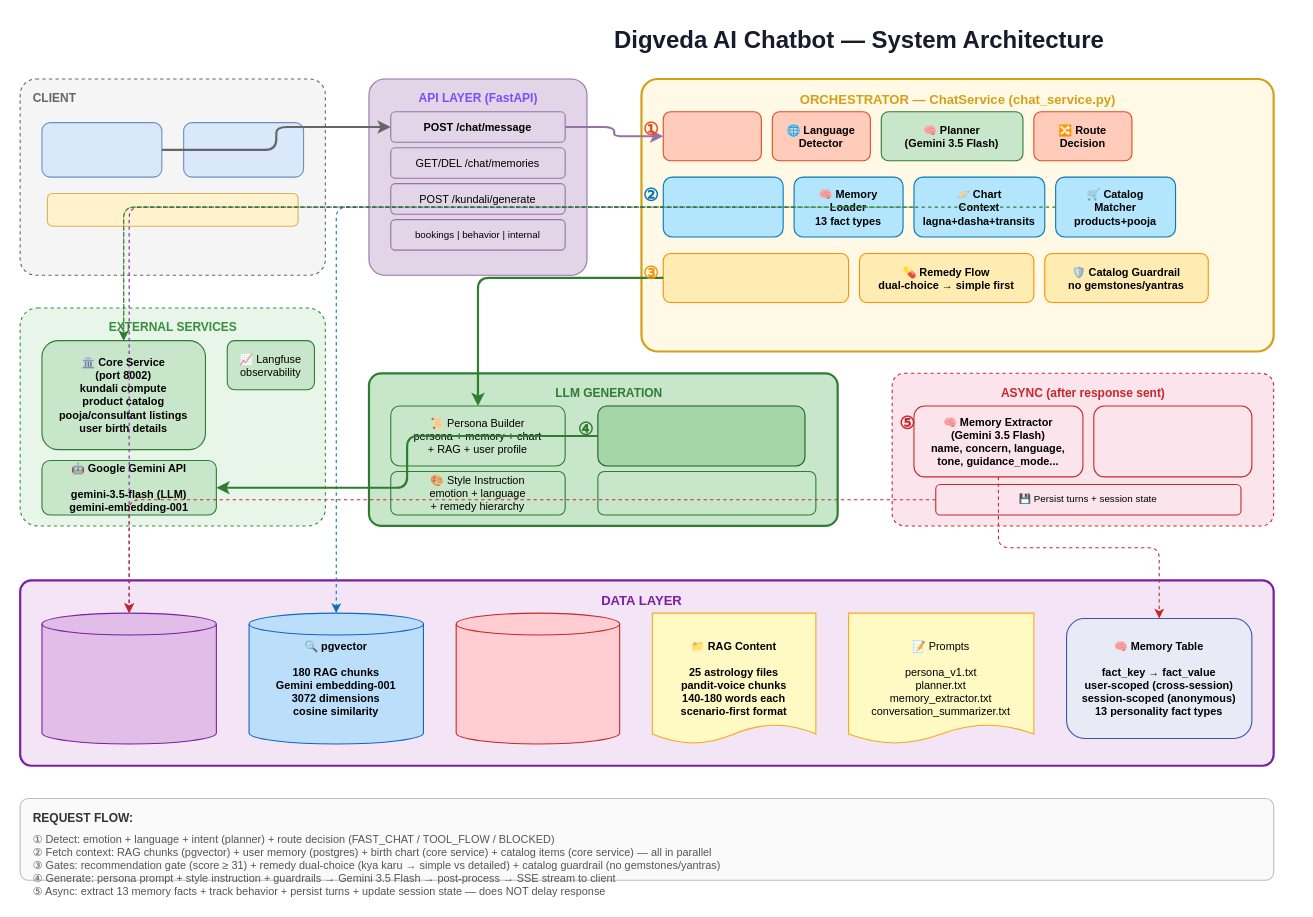
This 1313x917 diagram has some shape labels left out. The shapes that lost their labels are listed below. From the top down, each one's box as (x1, y1, x2, y2) in pixels, then its label:
(41, 122, 162, 177): 📱 Mobile App (Flutter)
(183, 122, 304, 177): 🌐 Web App (React)
(662, 111, 761, 161): 😤 Emotion Detector
(46, 192, 298, 226): SSE Stream status → meta → deltas → done
(662, 176, 783, 237): 📚 RAG Service 9-factor hybrid 180 chunks
(662, 252, 849, 302): 🚦 Recommendation Gate score ≥ 31 to recommend
(597, 405, 805, 466): ✨ Gemini 3.5 Flash (Response LLM) 90-150 words, pandit voice
(1093, 405, 1252, 477): 📊 Behavior Tracker energy flow, emotional state, session alignment
(597, 470, 816, 515): ✂️ Post-process guardrail + trim + language enforce
(41, 612, 216, 744): 🐘 PostgreSQL users | conversations messages | memories bookings | energy_flow
(455, 612, 620, 744): ⚡ Redis rate limiting session cache (2h TTL) idempotency store
